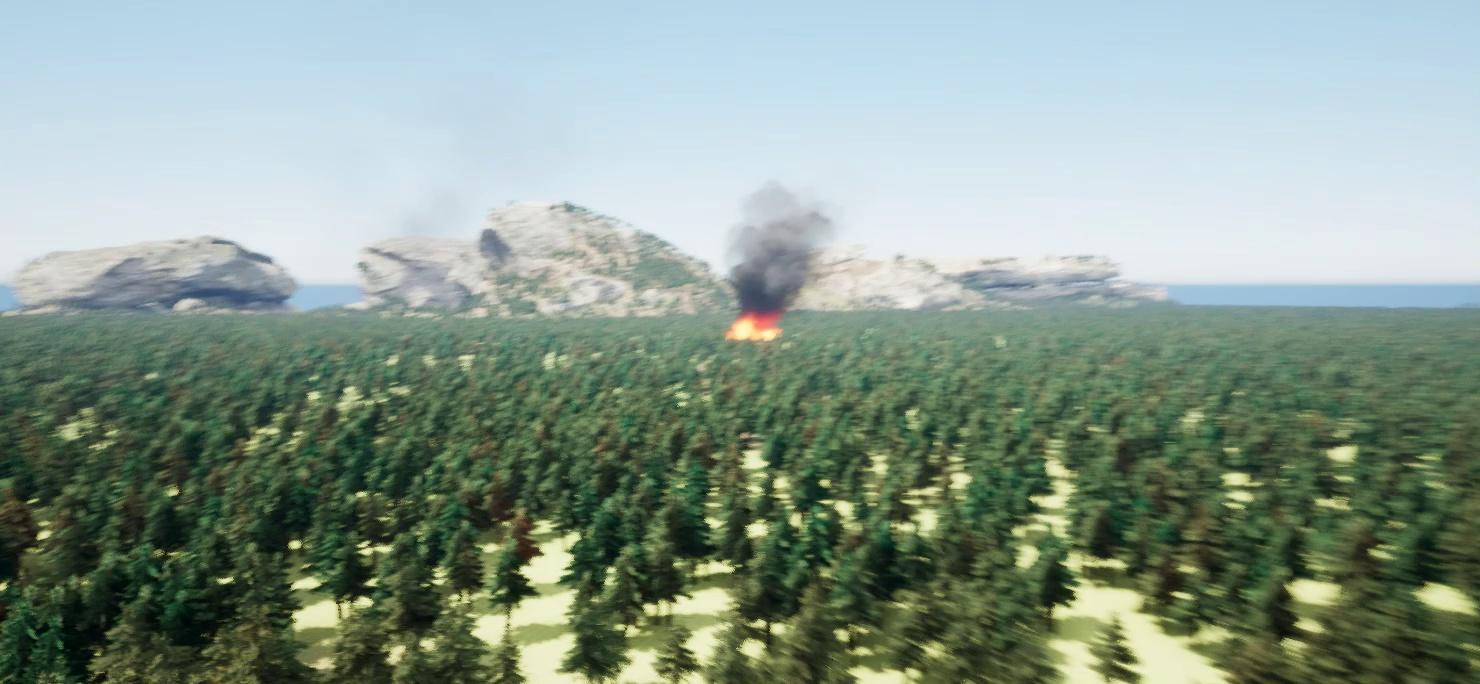fire: (719, 309, 784, 341)
smoke: (721, 183, 837, 309)
